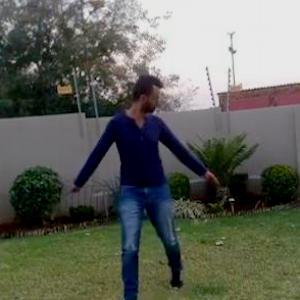land: (40, 65, 222, 299)
